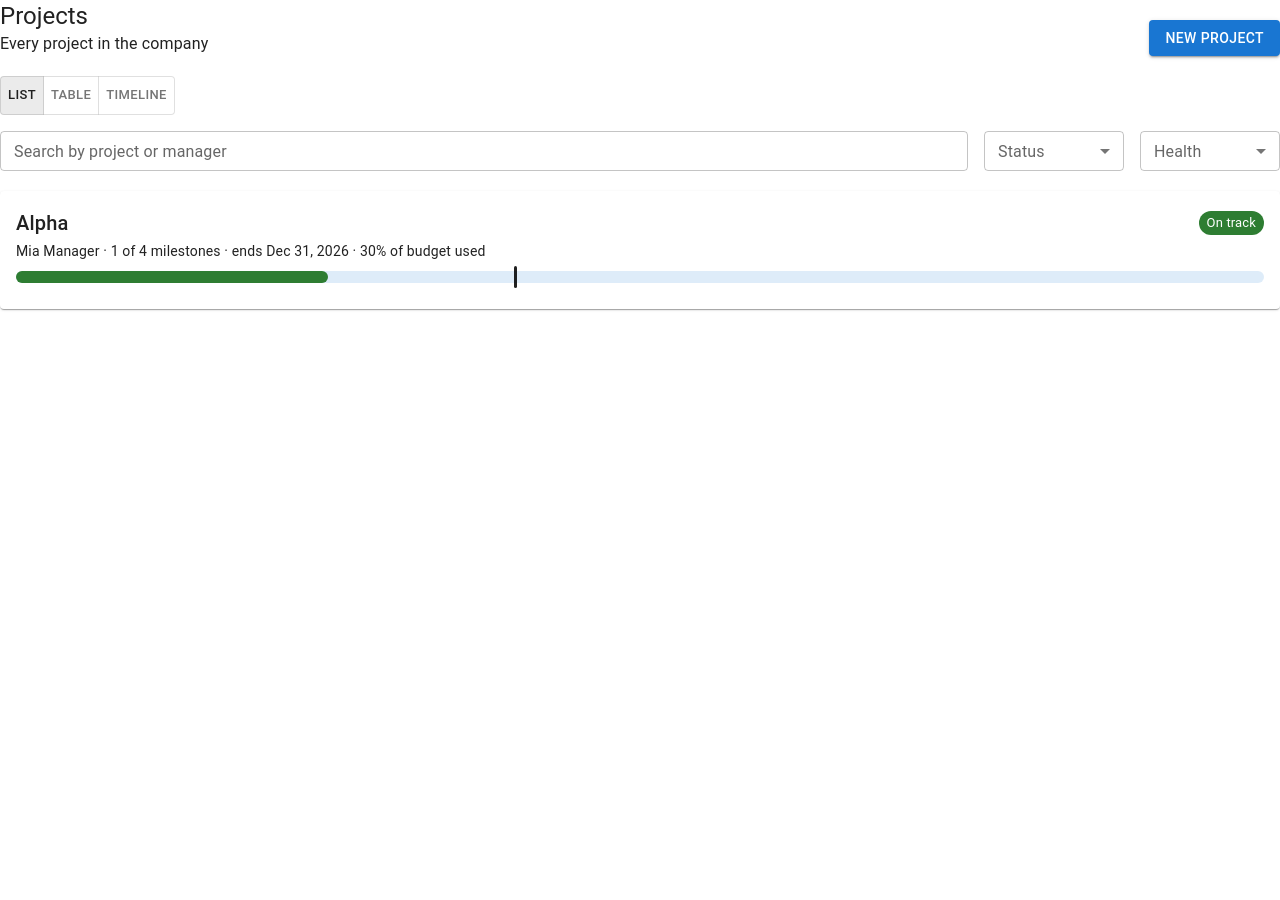
Projects list › new project › needs a name and a manager before it can be submitted
Click the button "New project": click(1215, 38) [1149,20,1279,56]
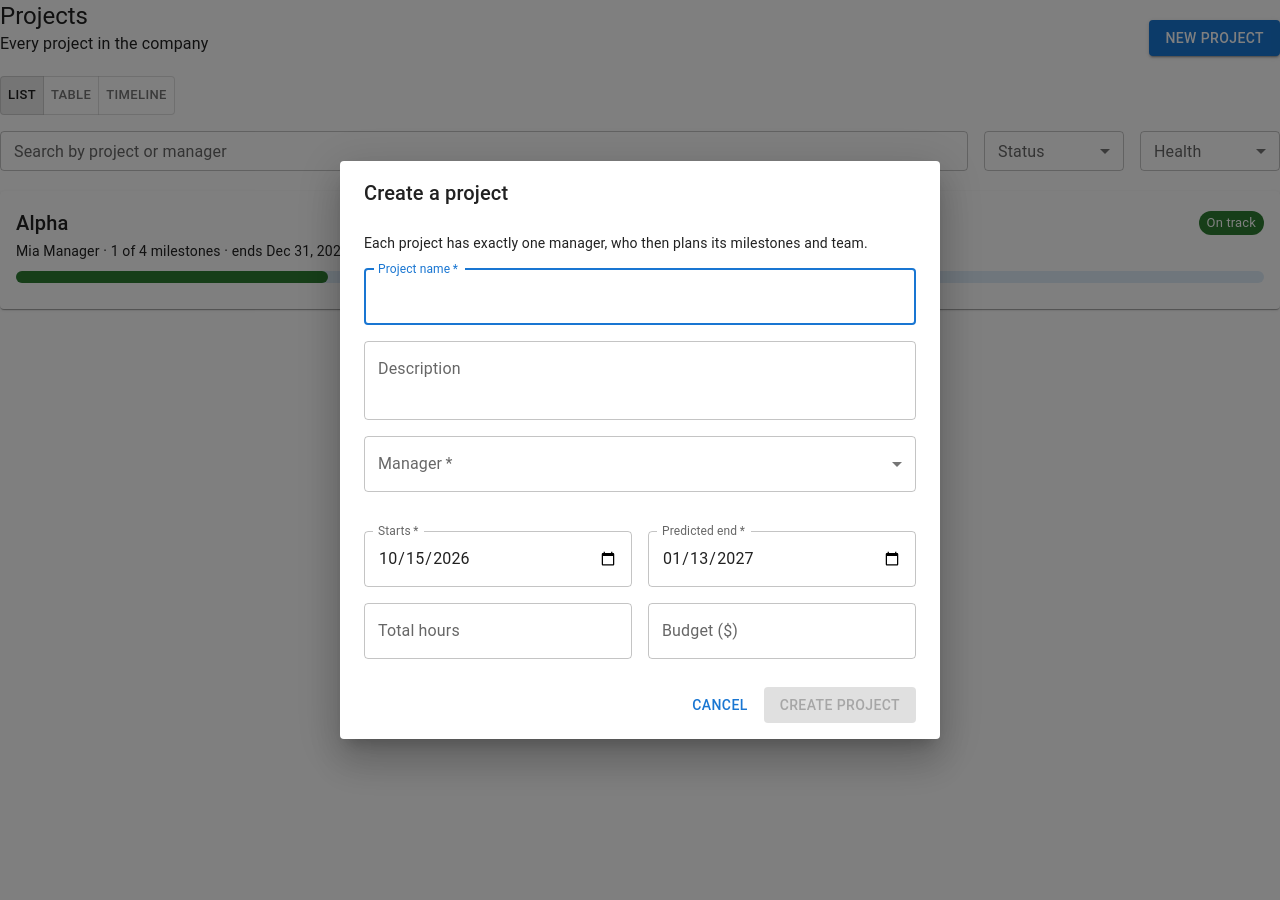
Now the button "Create project" is disabled, box [764,687,916,723]
In the field labelled "Project name *": (640, 297) [364,269,916,325], type "Brand refresh"
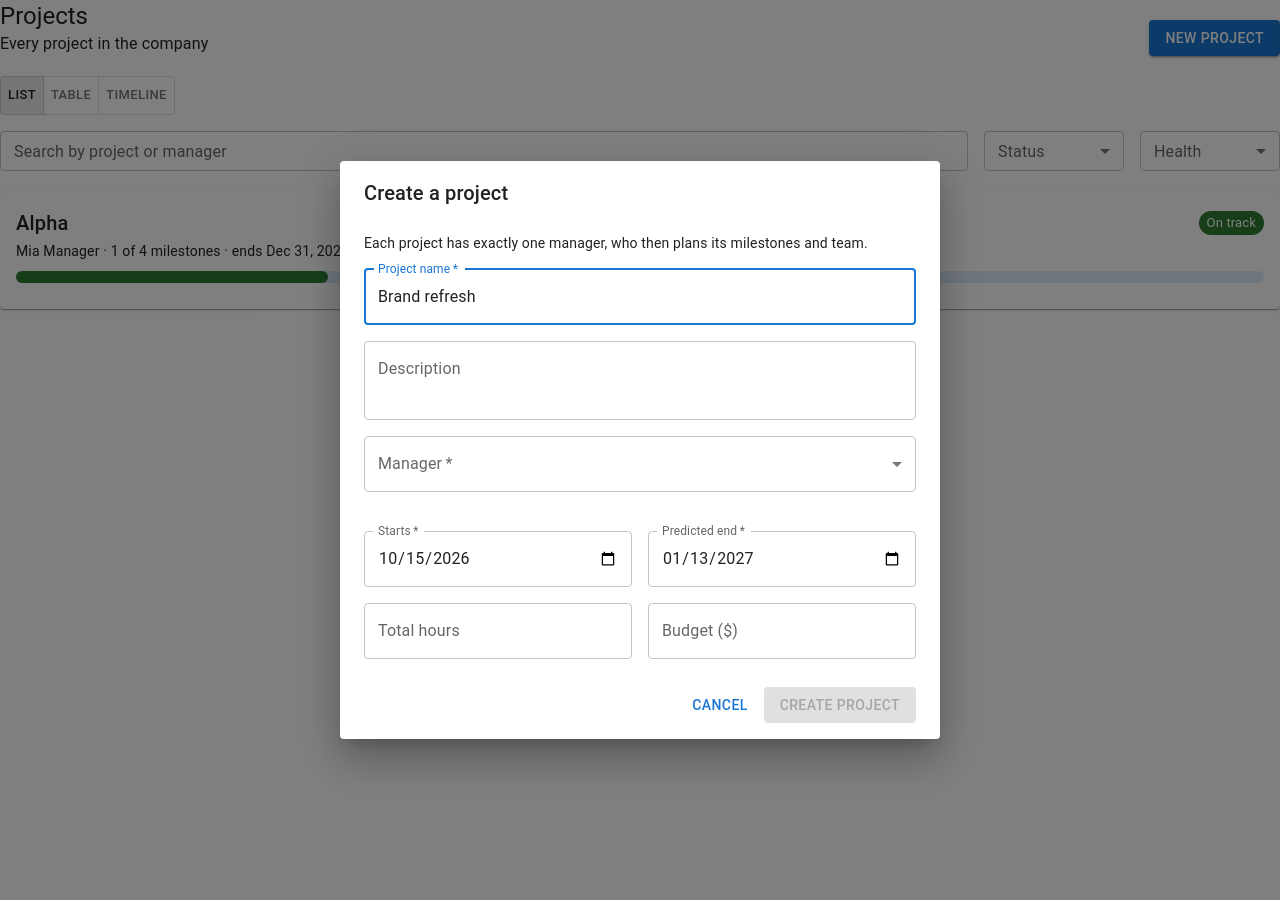
Now the button "Create project" is disabled, box [764,687,916,723]
Click the dropdown named "Manager": click(640, 464) [364,436,916,492]
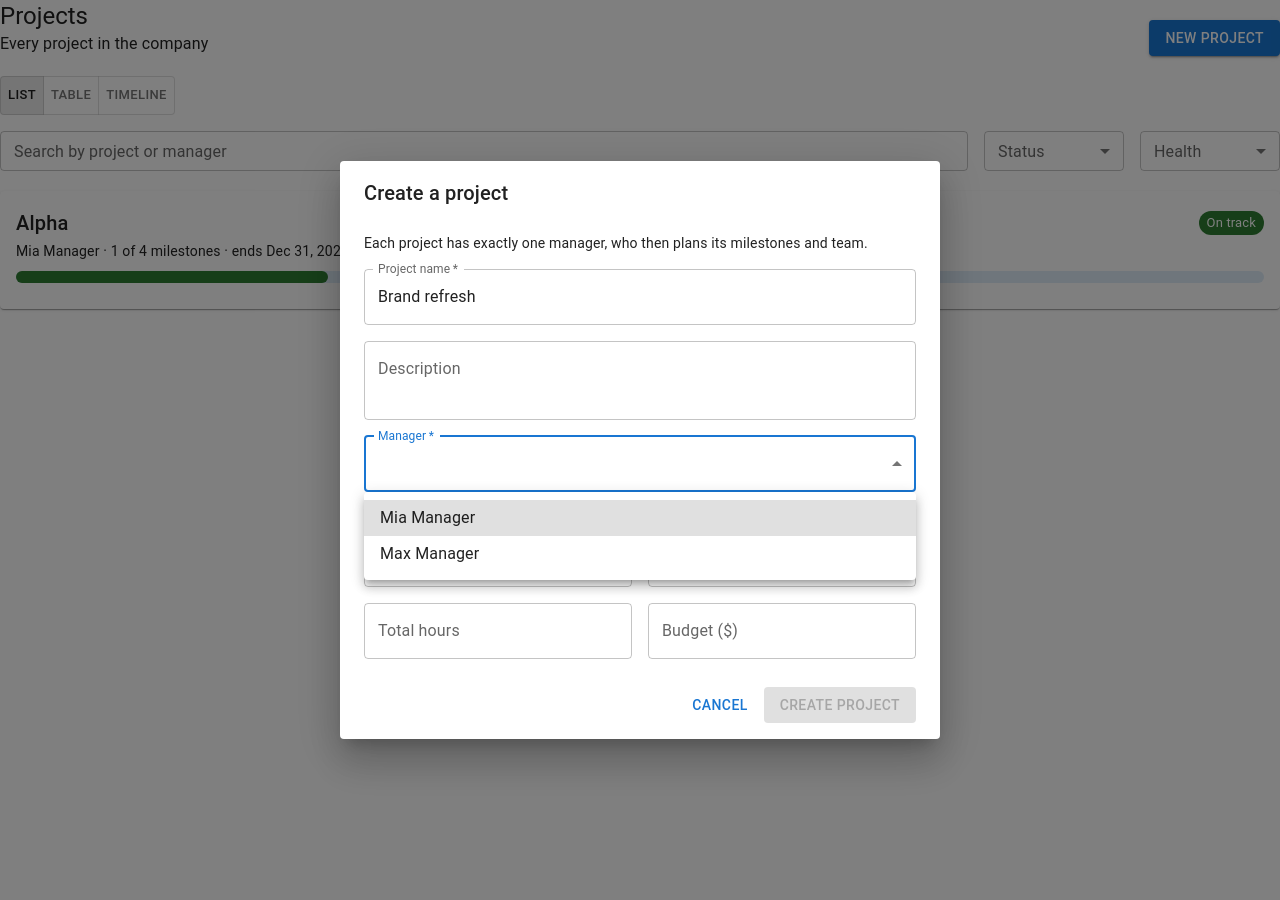
Click the option "Max Manager": click(430, 554) [380,544,479,563]
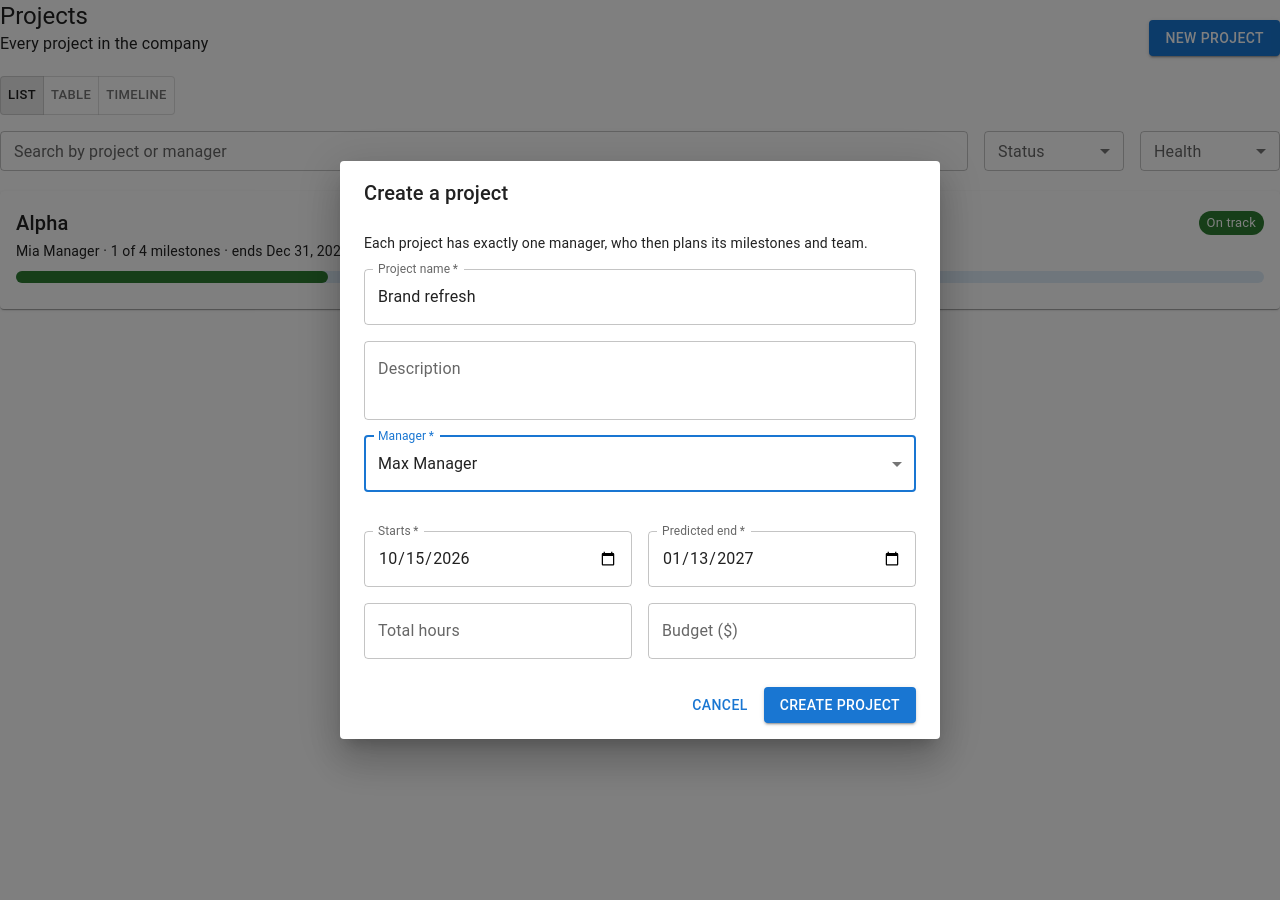
Now the button "Create project" is enabled, box [764,687,916,723]
